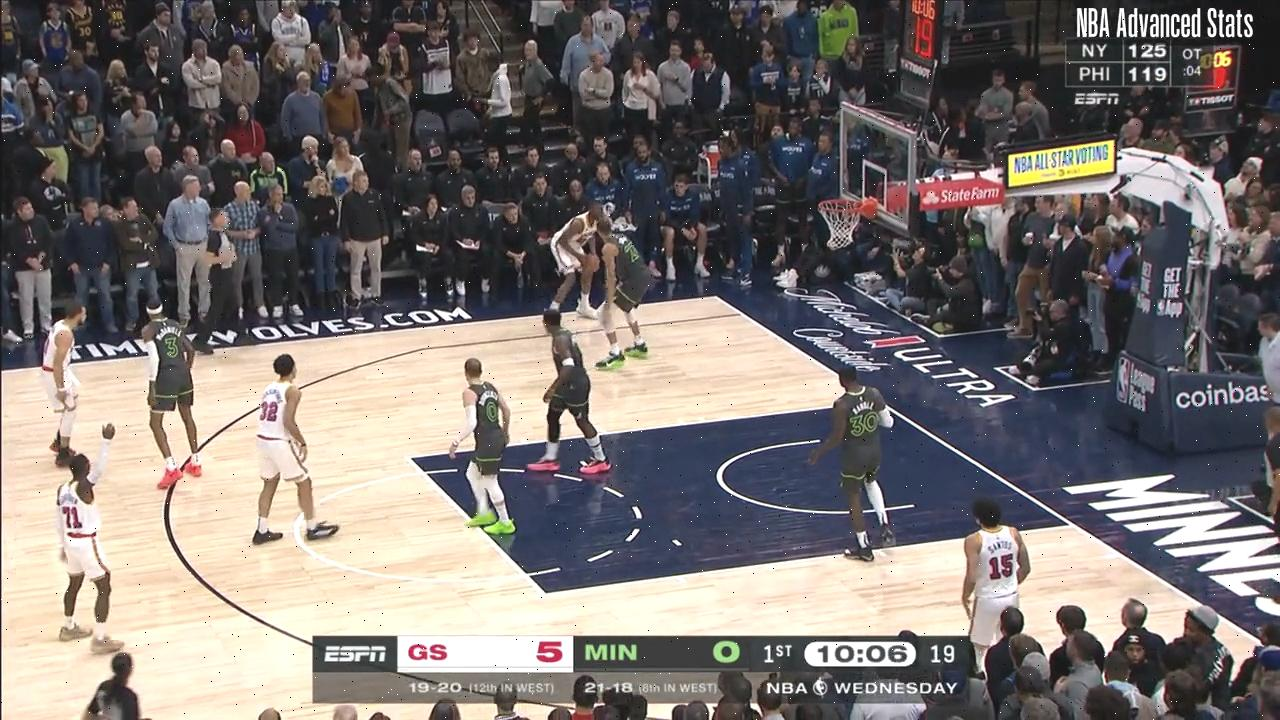basketball: (583, 251, 602, 272)
